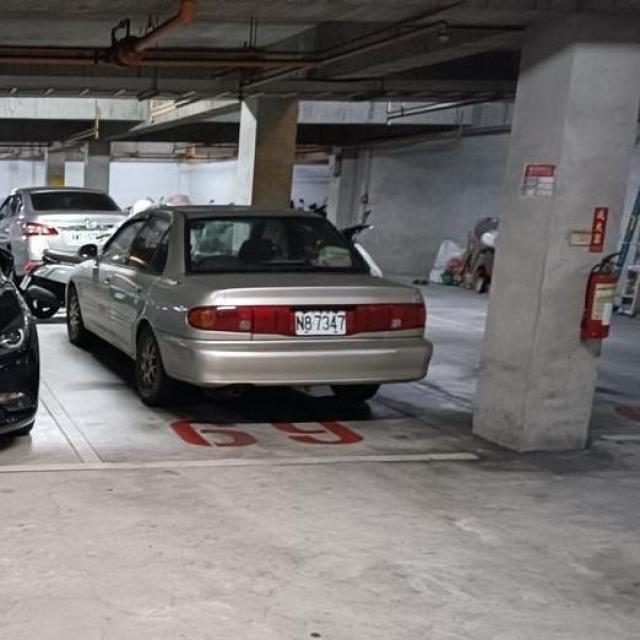W: (286, 297, 353, 341), (68, 227, 100, 245)
